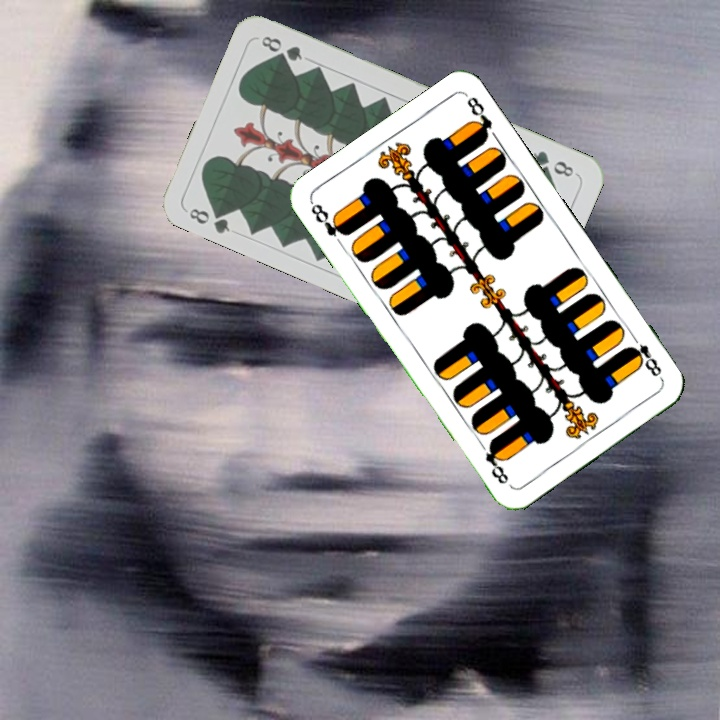E8: (623, 330, 665, 382), (306, 199, 351, 239)
G8: (529, 146, 579, 180), (185, 203, 233, 237)
